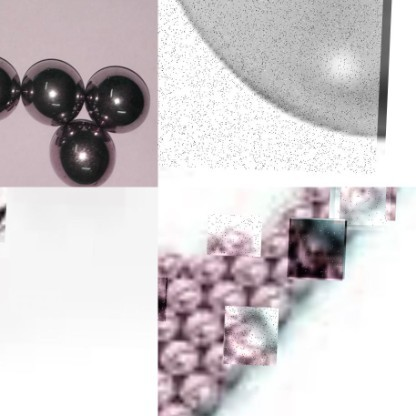ironball: (157, 0, 385, 172), (83, 60, 151, 136), (46, 117, 119, 187), (23, 57, 79, 127), (288, 217, 347, 276), (224, 304, 280, 364), (157, 331, 208, 378), (208, 212, 263, 255), (334, 187, 392, 223), (202, 278, 252, 319), (181, 303, 223, 348), (252, 280, 293, 326), (225, 252, 269, 289), (182, 373, 218, 416), (186, 251, 227, 285), (0, 50, 18, 125), (159, 393, 218, 415), (158, 243, 188, 286), (168, 278, 202, 313), (259, 223, 287, 258), (157, 275, 168, 320)
